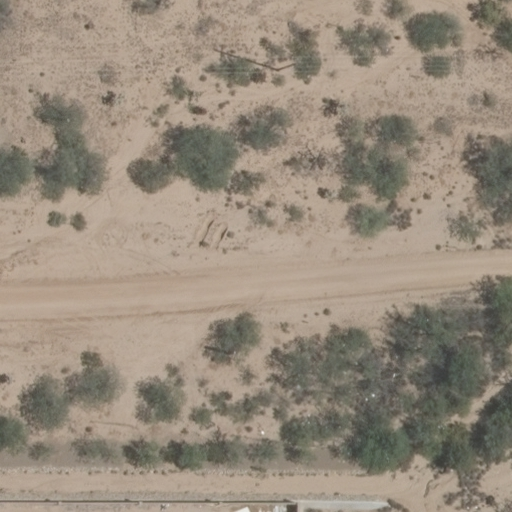DT: (277, 53, 308, 69)
